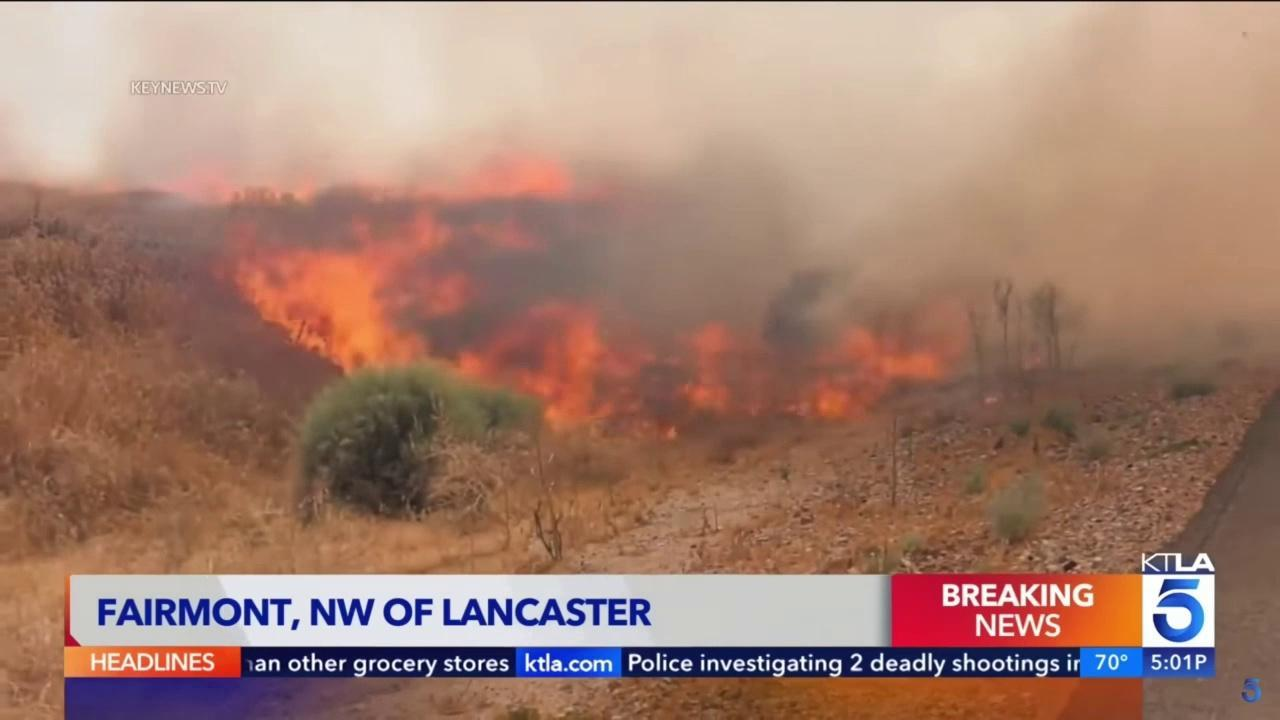fire: (147, 152, 976, 441), (96, 178, 127, 196)
smoke: (67, 0, 1280, 452)
